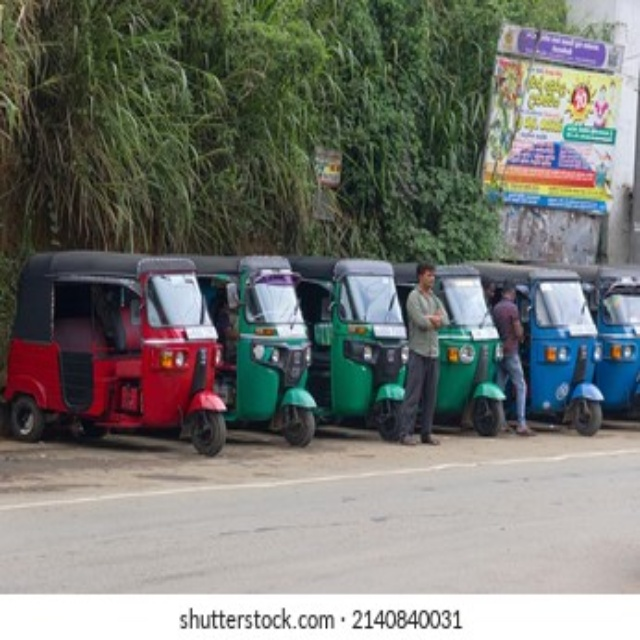Motorcycle: (7, 251, 229, 459), (198, 254, 320, 450), (290, 256, 409, 441), (483, 263, 603, 439), (390, 263, 509, 439), (583, 265, 640, 421)
